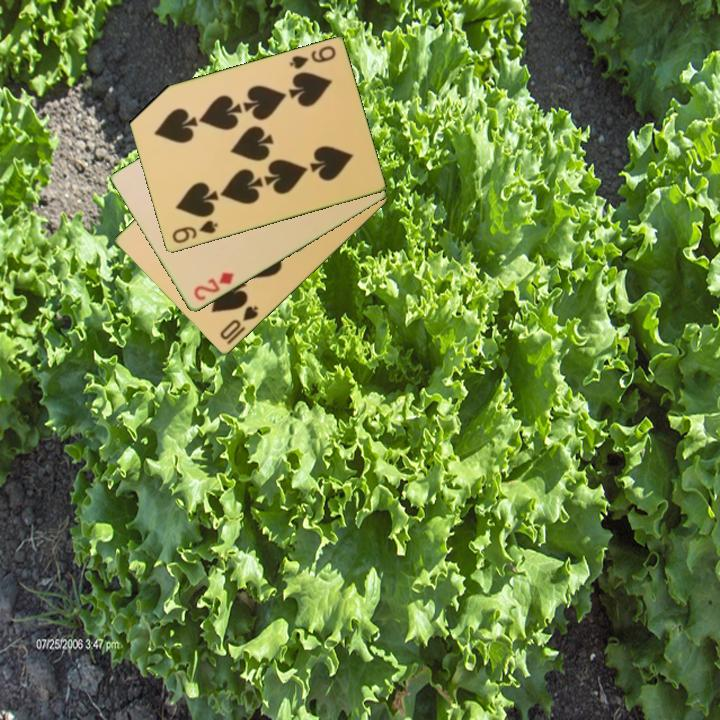10s: (216, 302, 261, 343)
2d: (190, 269, 237, 304)
9s: (168, 217, 221, 247), (286, 42, 338, 72)
